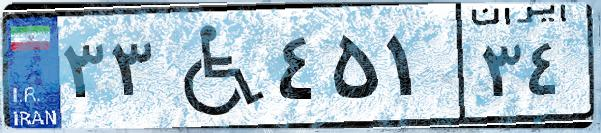1: (385, 28, 445, 110)
3: (57, 26, 110, 100), (475, 38, 525, 113), (110, 28, 158, 98)
4: (270, 28, 330, 110), (525, 38, 570, 115)
5: (330, 28, 385, 110)
ژ (معلولین و جانبازان): (158, 12, 270, 120)
